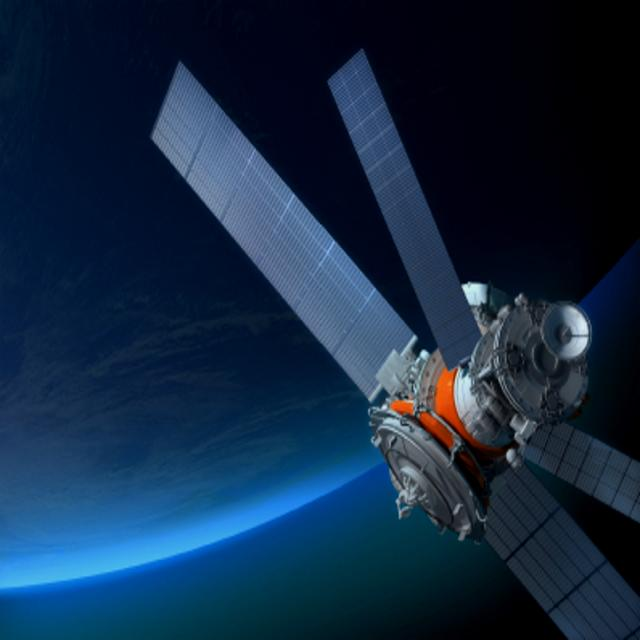satellite: (141, 25, 640, 640)
